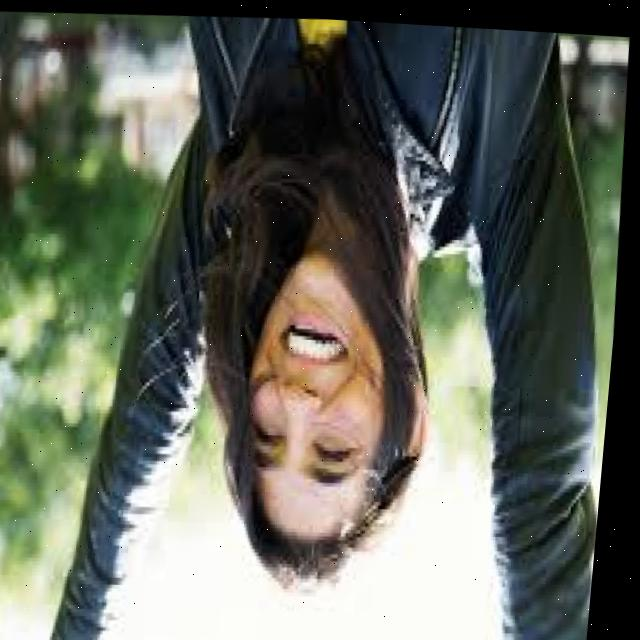happy: (216, 229, 435, 597)
